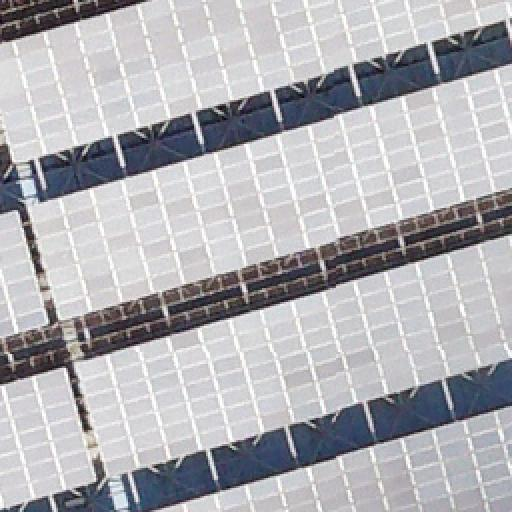solar-panel: (25, 63, 511, 321), (73, 235, 511, 477), (0, 1, 512, 167), (156, 408, 512, 512), (1, 368, 103, 512), (0, 210, 52, 342)
